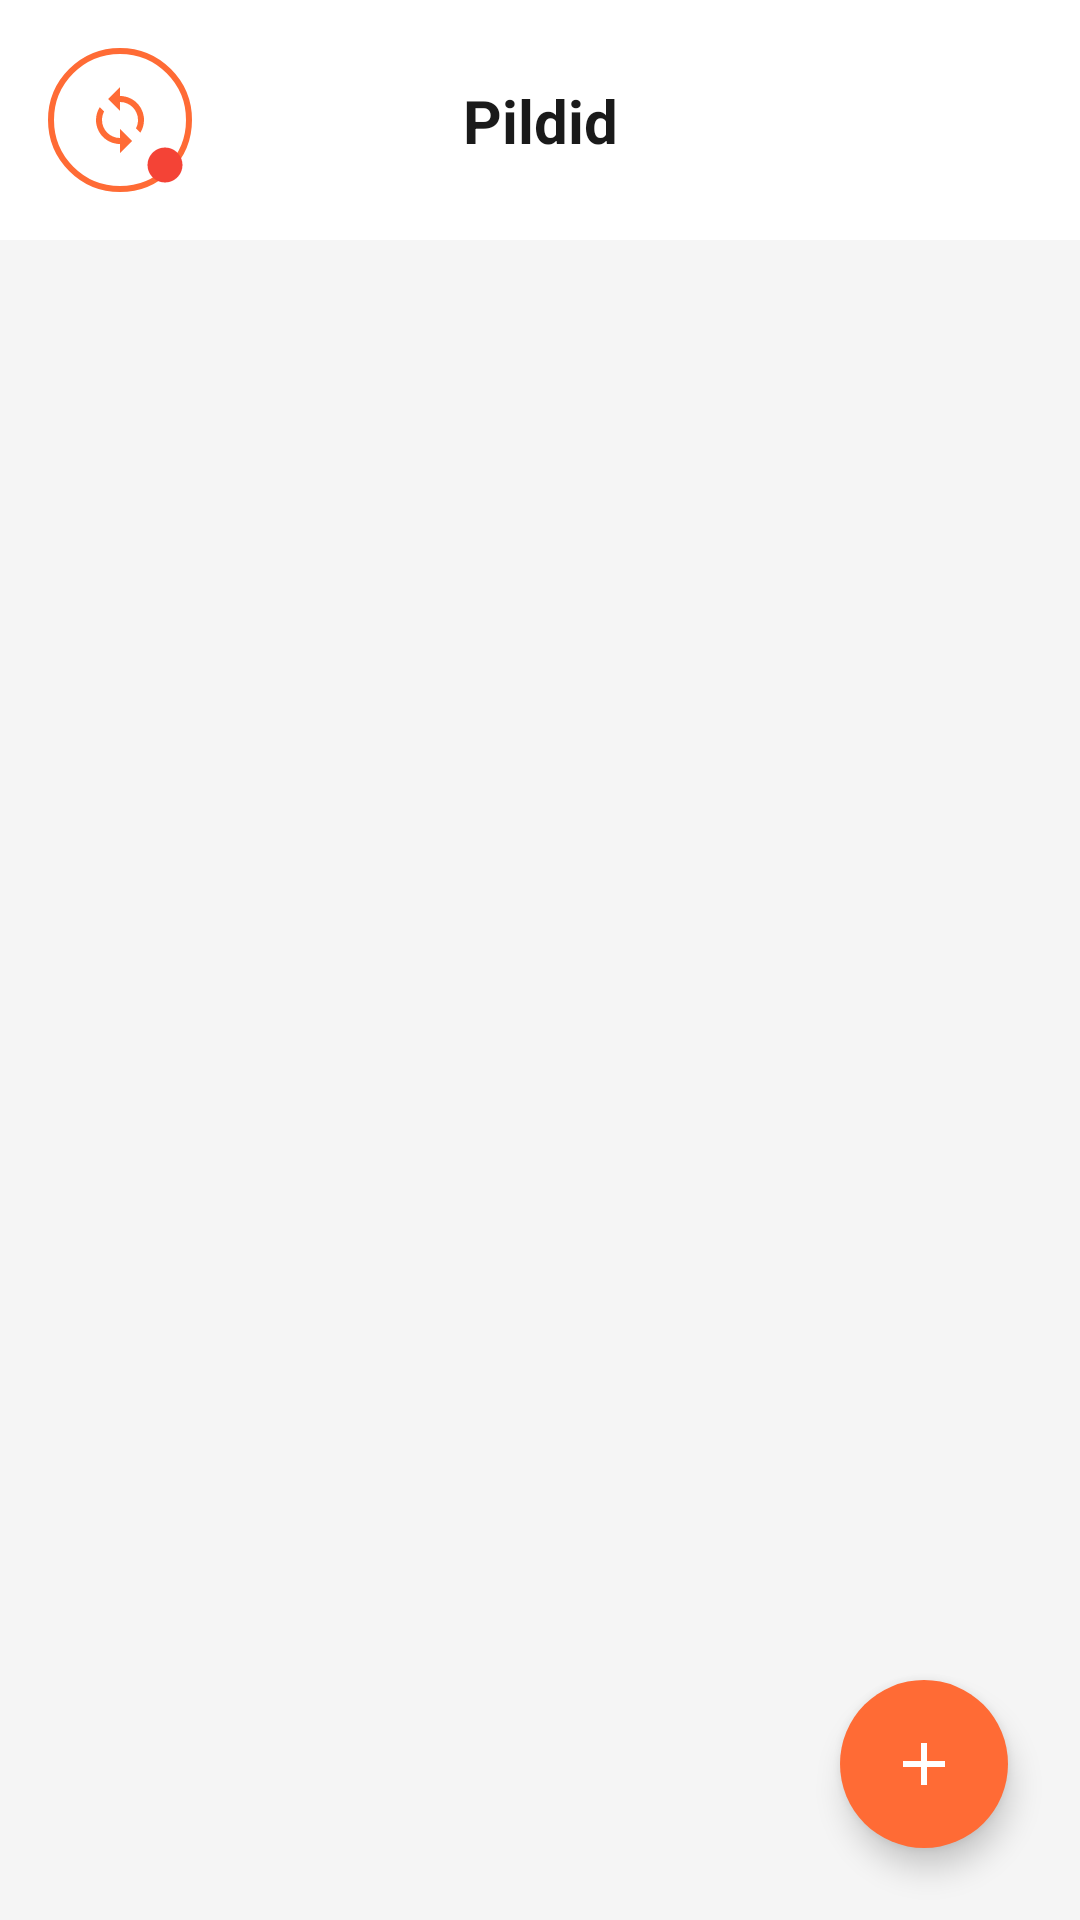

Where icons sit on this 1080px x 1920px app screen, as (x1, y1, x2, y2):
Lisa pilt: (840, 1680, 1008, 1848)
